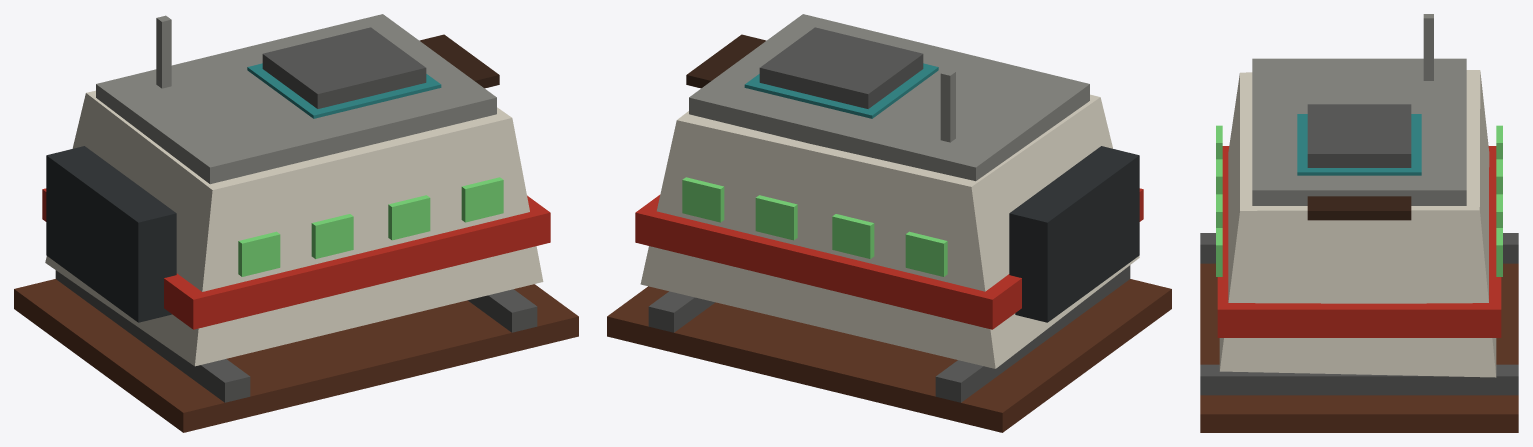
Rendered from relic_ship_module.glb.
3 views of the same model, side by side, from view 1: azimuth 30°, elevation 25°; view 2: azimuth 150°, elevation 25°; view 3: azimuth 270°, elevation 25° (orthographic). The views are drawn at different scales.
Parts seen in each view (by area): view 1: relic_ship_module; view 2: relic_ship_module; view 3: relic_ship_module.
Part boxes in pixels (left/top/right/bottom): relic_ship_module: left=14, top=14, right=578, bottom=432; relic_ship_module: left=607, top=14, right=1171, bottom=432; relic_ship_module: left=1200, top=14, right=1518, bottom=432.
Size of the model in its own units: 1.26 by 0.9 by 0.92.
